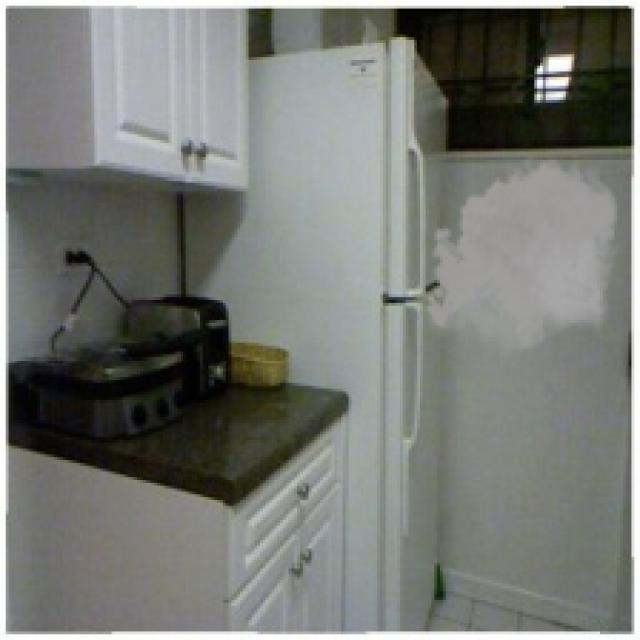Smoke: (420, 151, 626, 363)
